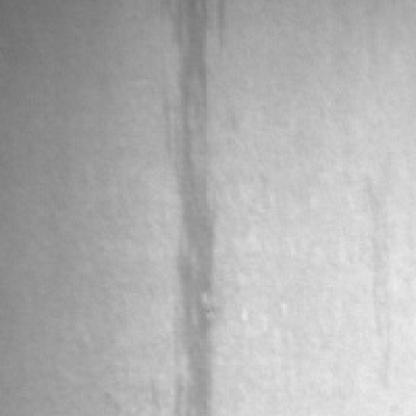inclusion: (158, 0, 231, 408)
